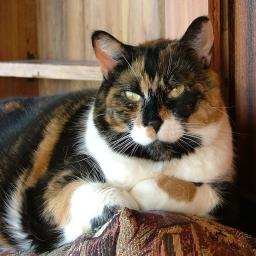catnose: (146, 120, 164, 134)
